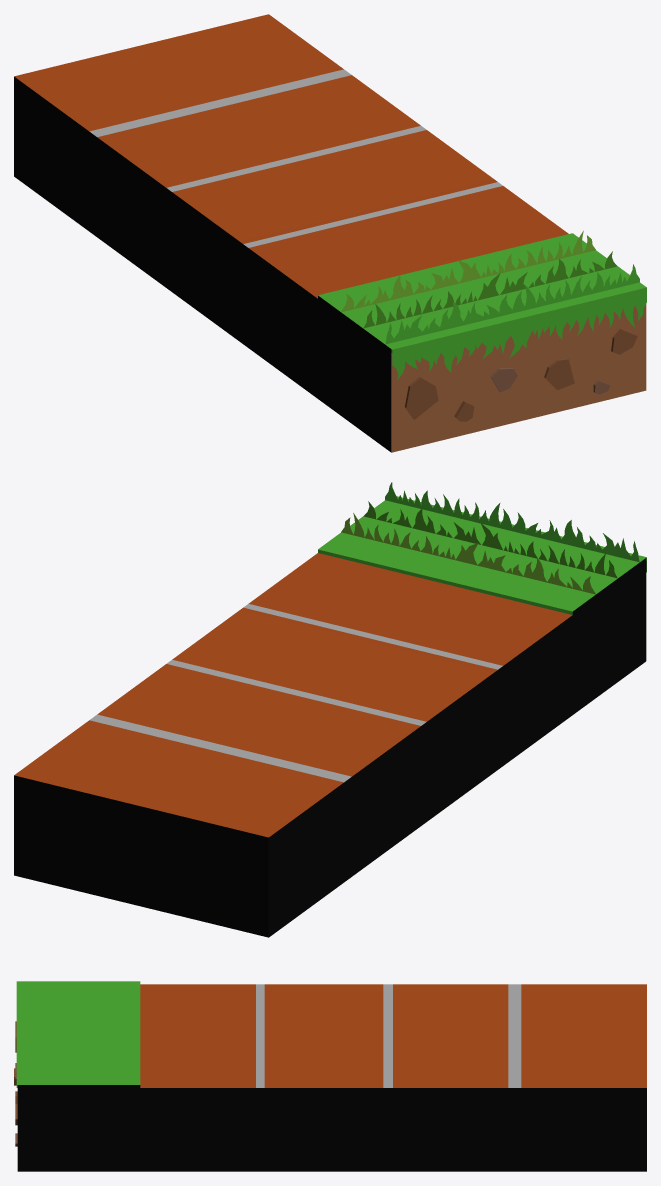
File: ground_01.fbx
3 renders of one model, top to bottom at view 1: azimuth 30°, elevation 25°; view 2: azimuth 150°, elevation 25°; view 3: azimuth 270°, elevation 25°, orthographic. The views are drawn at different scales.
Visible parts, largest first — view 1: ground_01; view 2: ground_01; view 3: ground_01.
Part boxes in pixels (x1=…): ground_01: x1=14, y1=14, x2=646, y2=452; ground_01: x1=14, y1=482, x2=646, y2=937; ground_01: x1=14, y1=981, x2=646, y2=1171.
Bounding box in the file's own units: 192 × 93.56 × 496.
